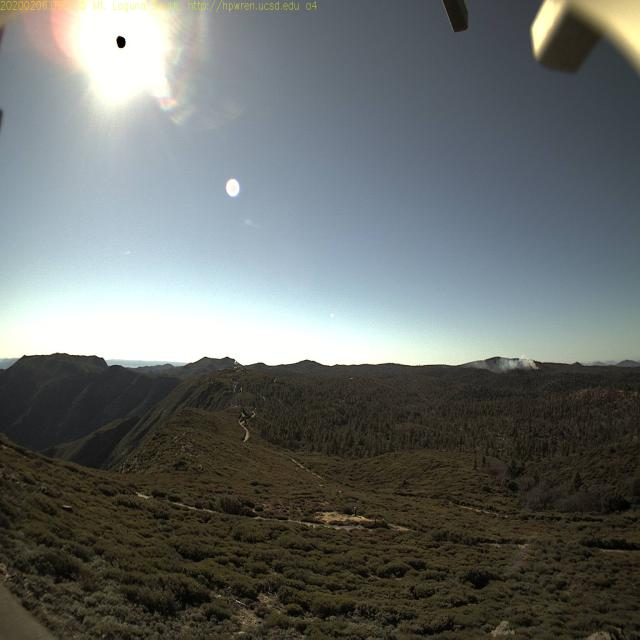smoke: (466, 351, 501, 379), (502, 356, 538, 372)
